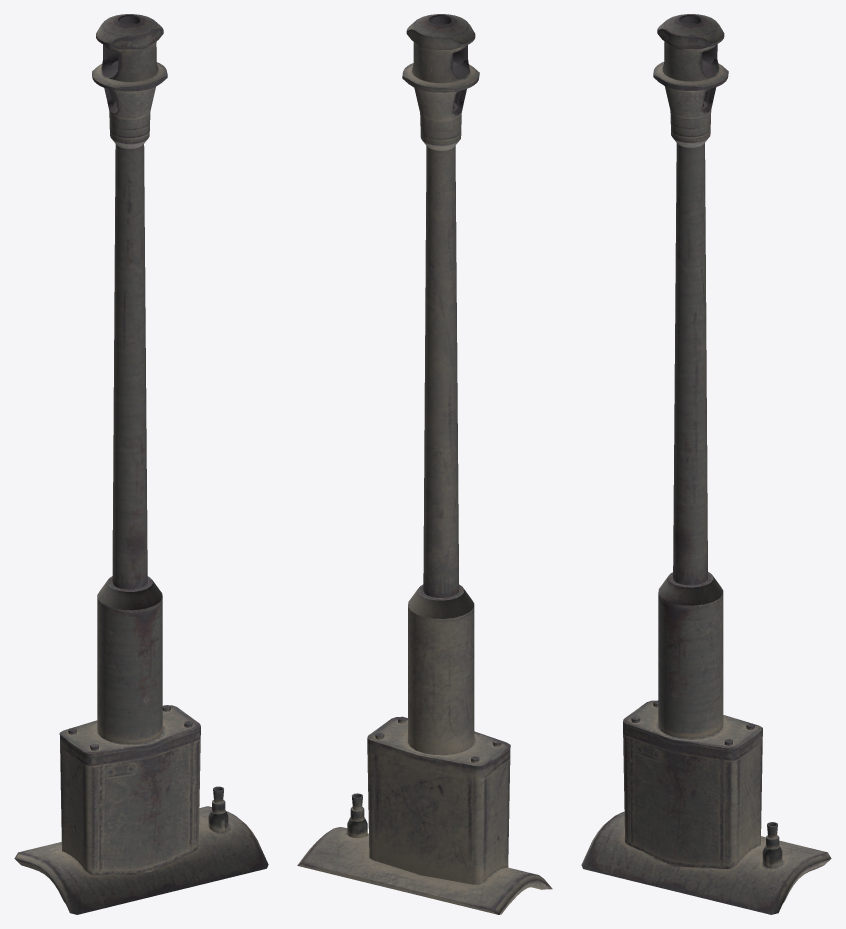
File: Gun_01.glb
3 renders of one model, left to right at view 1: azimuth 30°, elevation 25°; view 2: azimuth 150°, elevation 25°; view 3: azimuth 330°, elevation 25°, orthographic. The views are drawn at different scales.
Visible parts, largest first — view 1: set_0_group_0; view 2: set_0_group_0; view 3: set_0_group_0.
Boxes of the visible parts, bbox=[...] form: set_0_group_0: bbox=[14, 14, 268, 914]; set_0_group_0: bbox=[297, 14, 552, 914]; set_0_group_0: bbox=[581, 14, 831, 914].
Bounding box in the file's own units: 0.7848 × 3.22 × 0.3947.
1 material, 1 textured.
